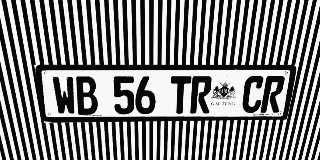5: (113, 76, 135, 114)
6: (135, 76, 156, 114)
B: (74, 76, 99, 115)
C: (241, 76, 266, 113)
R: (260, 76, 286, 113), (190, 76, 213, 113)
T: (170, 76, 191, 114)
W: (51, 76, 77, 115)
